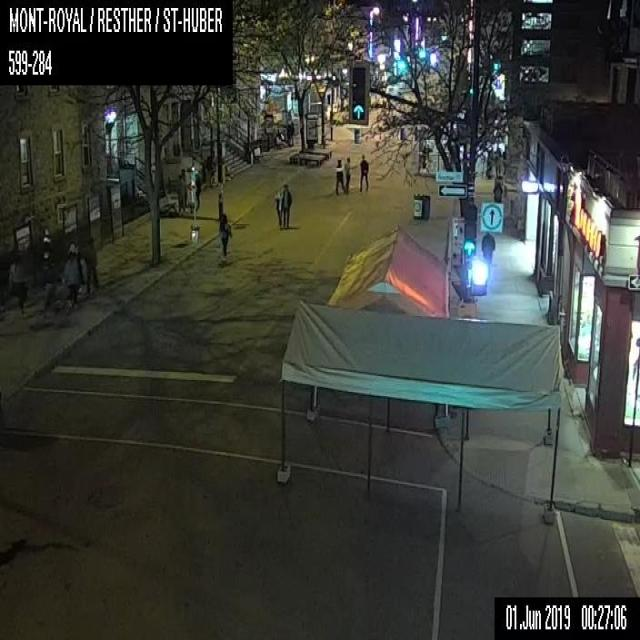pedestrian: (62, 252, 82, 312), (8, 254, 27, 314), (83, 236, 102, 294), (480, 230, 494, 279), (218, 212, 231, 259), (68, 238, 82, 276), (175, 174, 185, 215), (282, 183, 291, 228), (334, 158, 345, 194), (358, 153, 368, 191), (274, 186, 283, 228), (180, 168, 187, 212), (194, 171, 200, 209), (344, 156, 350, 193), (493, 180, 502, 202), (290, 120, 294, 145), (286, 122, 290, 145)
